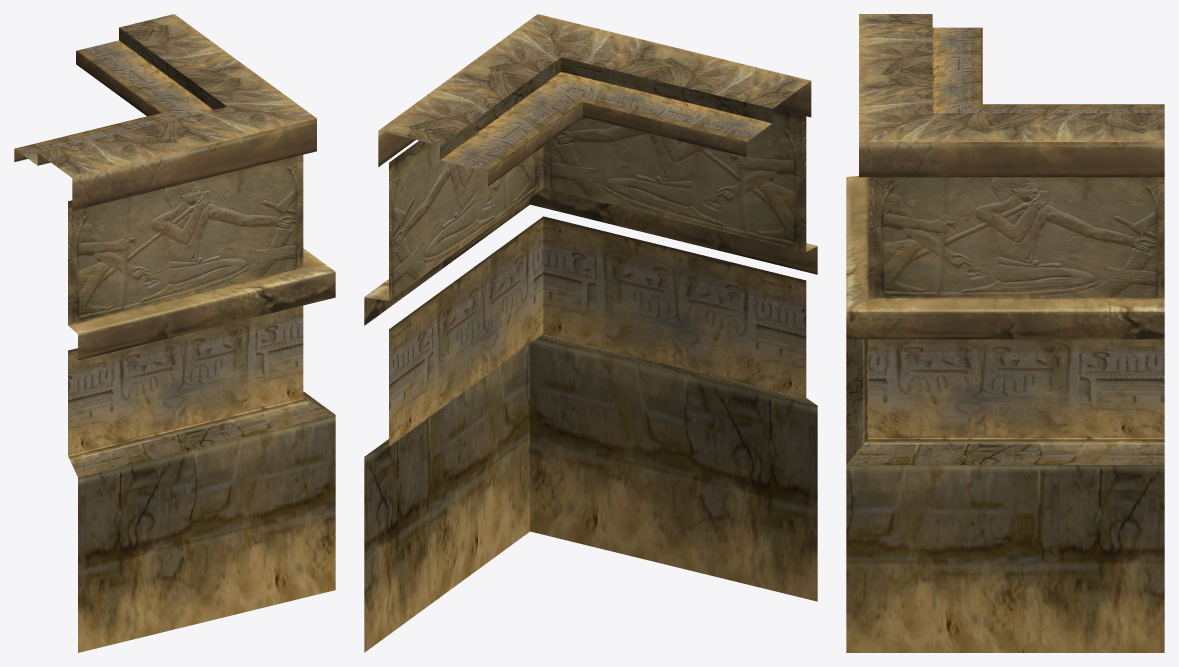
Rendered from S_Build_Desert138.FBX.
The picture shows the model from 3 angles, left to right: view 1: azimuth 30°, elevation 25°; view 2: azimuth 150°, elevation 25°; view 3: azimuth 270°, elevation 25°; orthographic projection. The views are drawn at different scales.
Parts seen in each view (by area): view 1: S_Build_Desert138; view 2: S_Build_Desert138; view 3: S_Build_Desert138.
Boxes of the visible parts, x1,y1,x2,y2 form: S_Build_Desert138: [14, 14, 335, 652]; S_Build_Desert138: [364, 14, 817, 652]; S_Build_Desert138: [846, 14, 1164, 652].
Bounding box in the file's own units: 1225 × 1224 × 2140.
